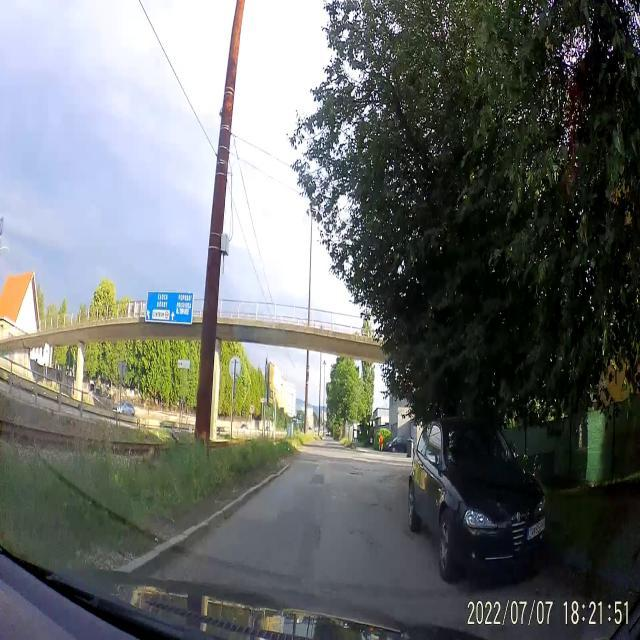Pothole: (350, 464, 366, 480)
